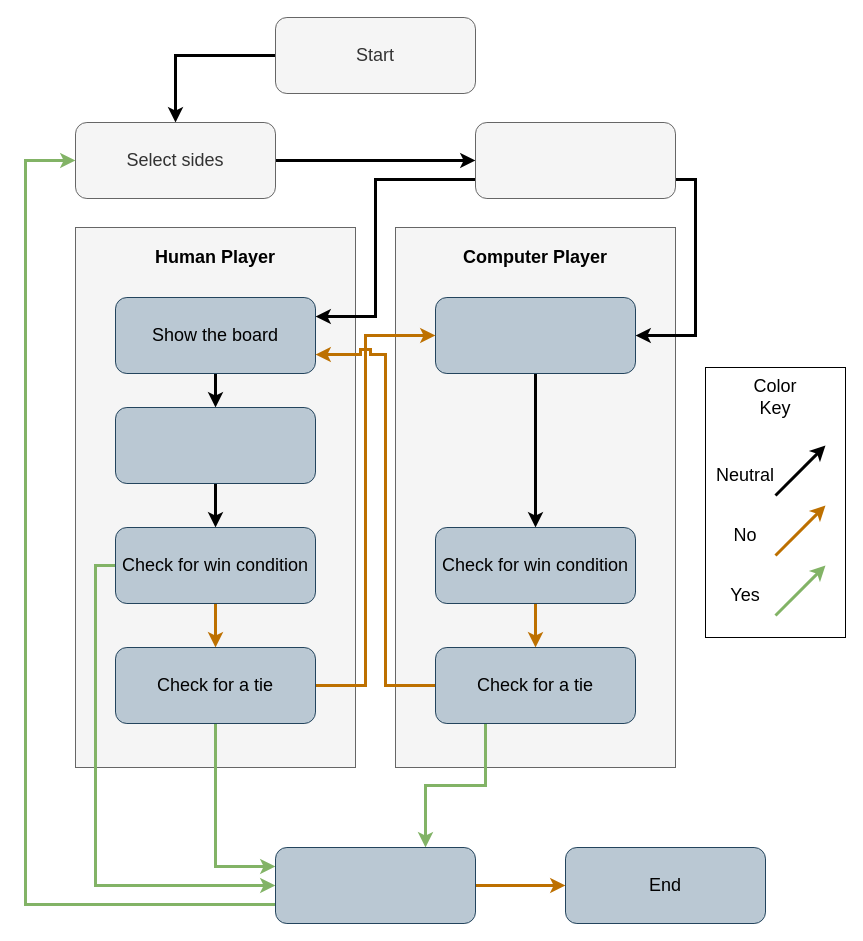
Some shapes in this 863 by 941 pixel diagram are drawn without their labels. The centre of each missing label's shape, as x and y in pixels:
"Determine order of play" goes at (575,160).
"Get Computer's move" goes at (535,335).
"Get Human's move" goes at (215,445).
"Replay?" goes at (375,885).
